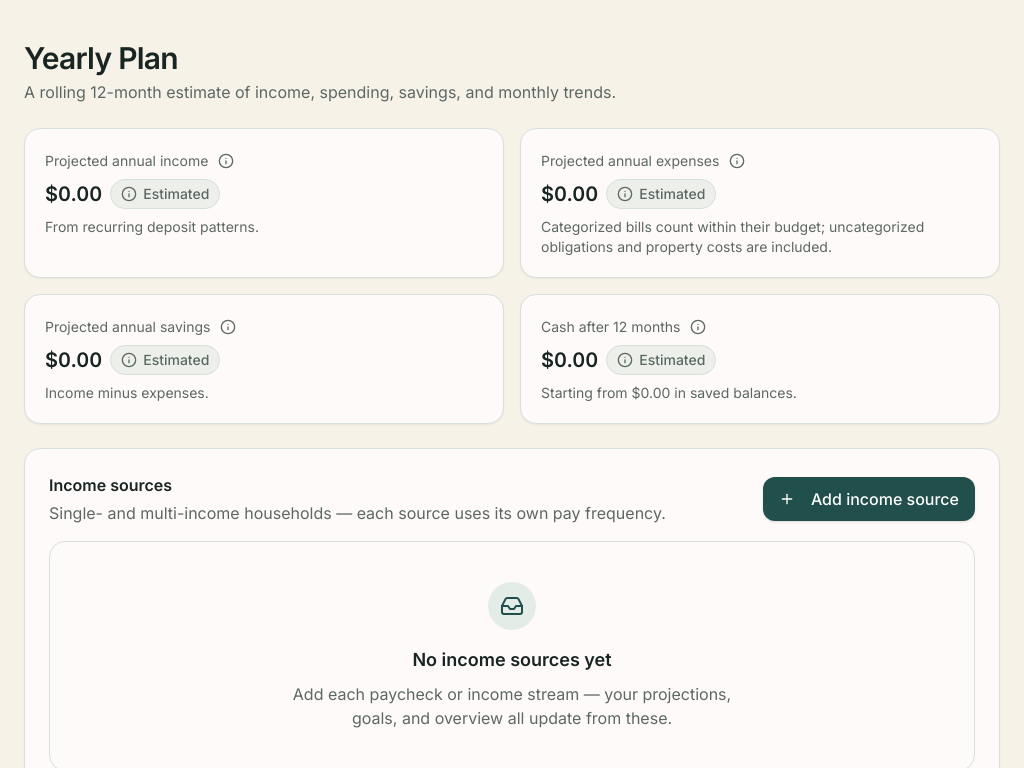
Test: ordinary persistence regressions; SDK fixtures, not hosted verification › keeps a failed income write in the dialog with an explicit error
Click the button "Add income source". click: click(869, 499)
box: [763,477,975,521]
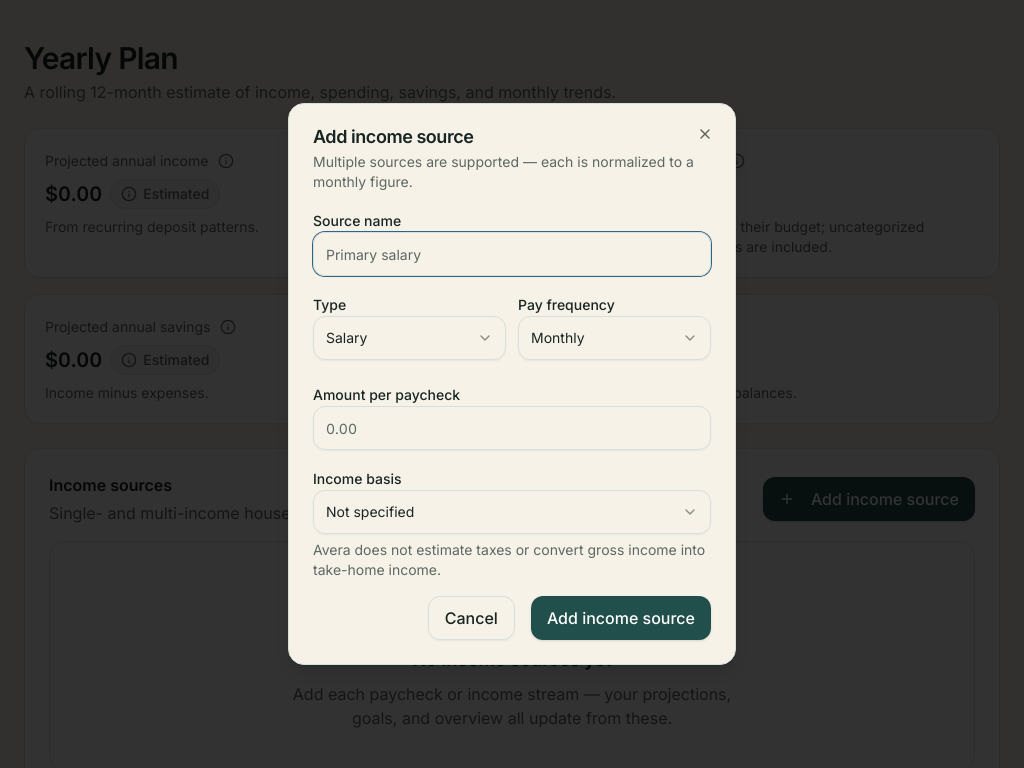
Type "Salary" into the field labelled "Source name". click: (512, 254)
box: [313,232,711,276]
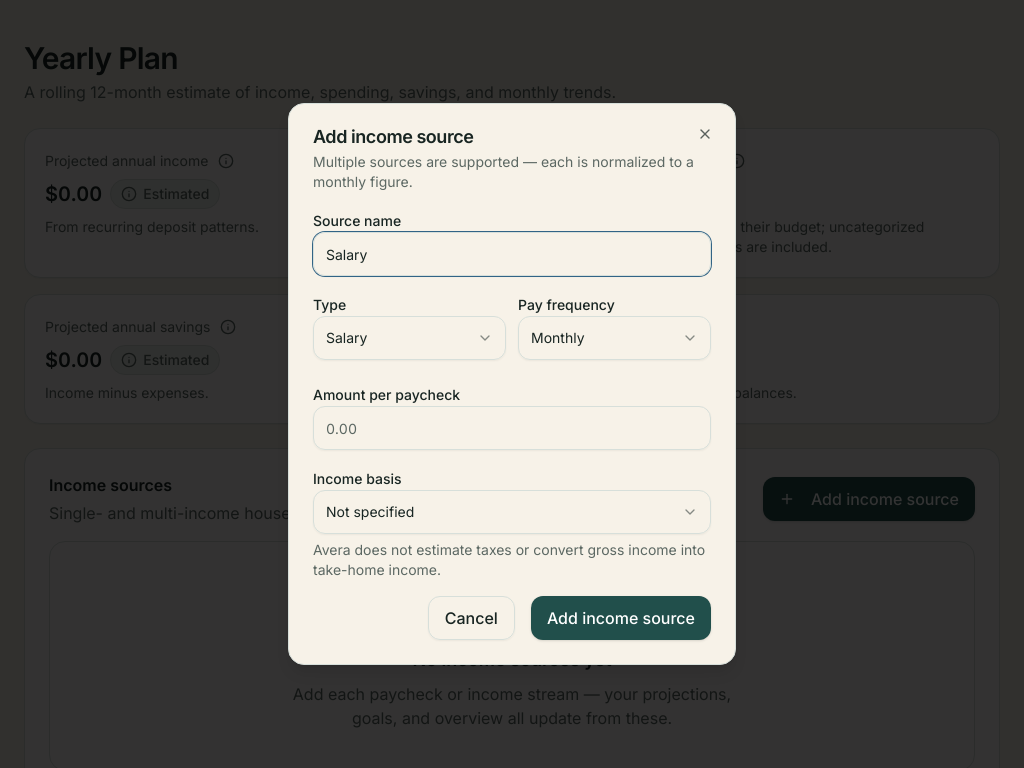
Type "100" into the number field labelled "Amount per paycheck". click: (512, 428)
box: [313,406,711,450]
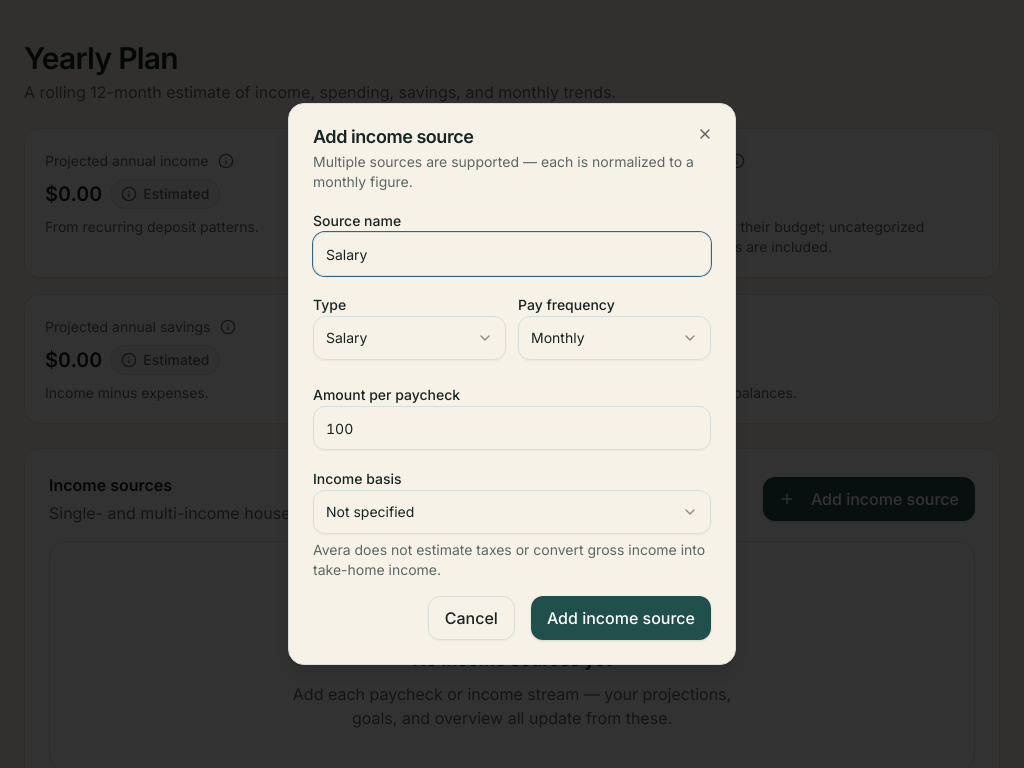
Click the button "Add income source". click: click(621, 618)
box: [531,596,711,640]
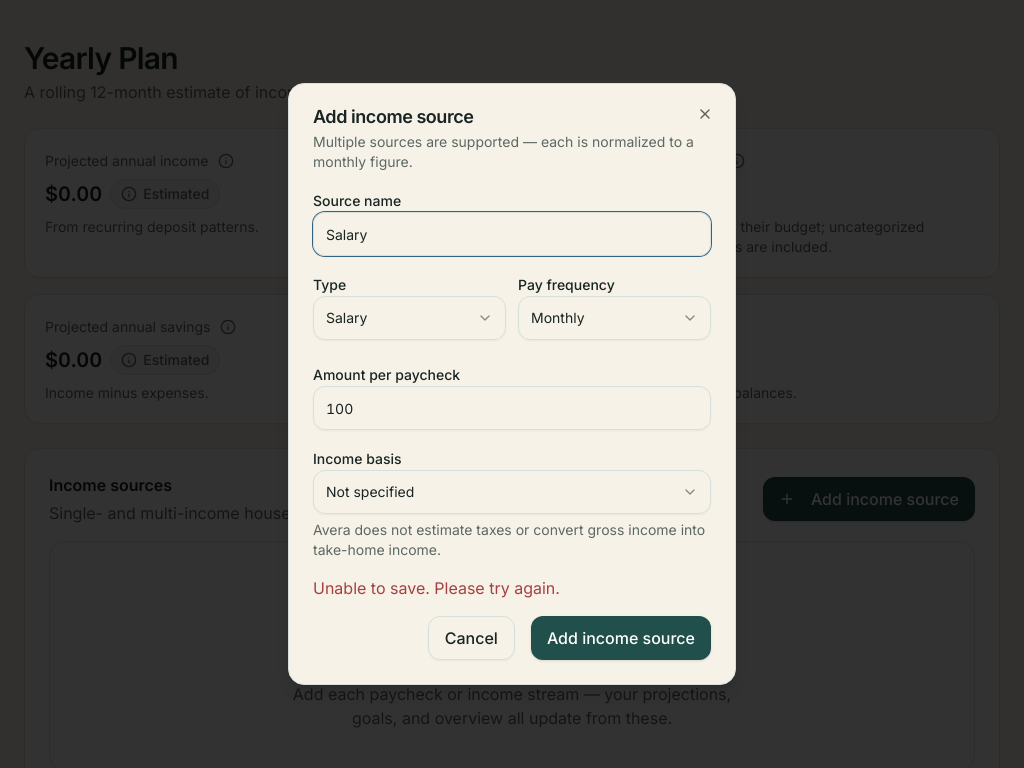
Expected: the dialog is shown, [288,83,736,685]
Expected: the message "Unable to save. Please try again." is shown, [313,578,560,598]
